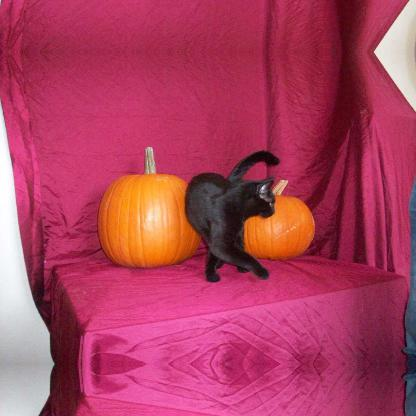Cat: (183, 151, 281, 283)
